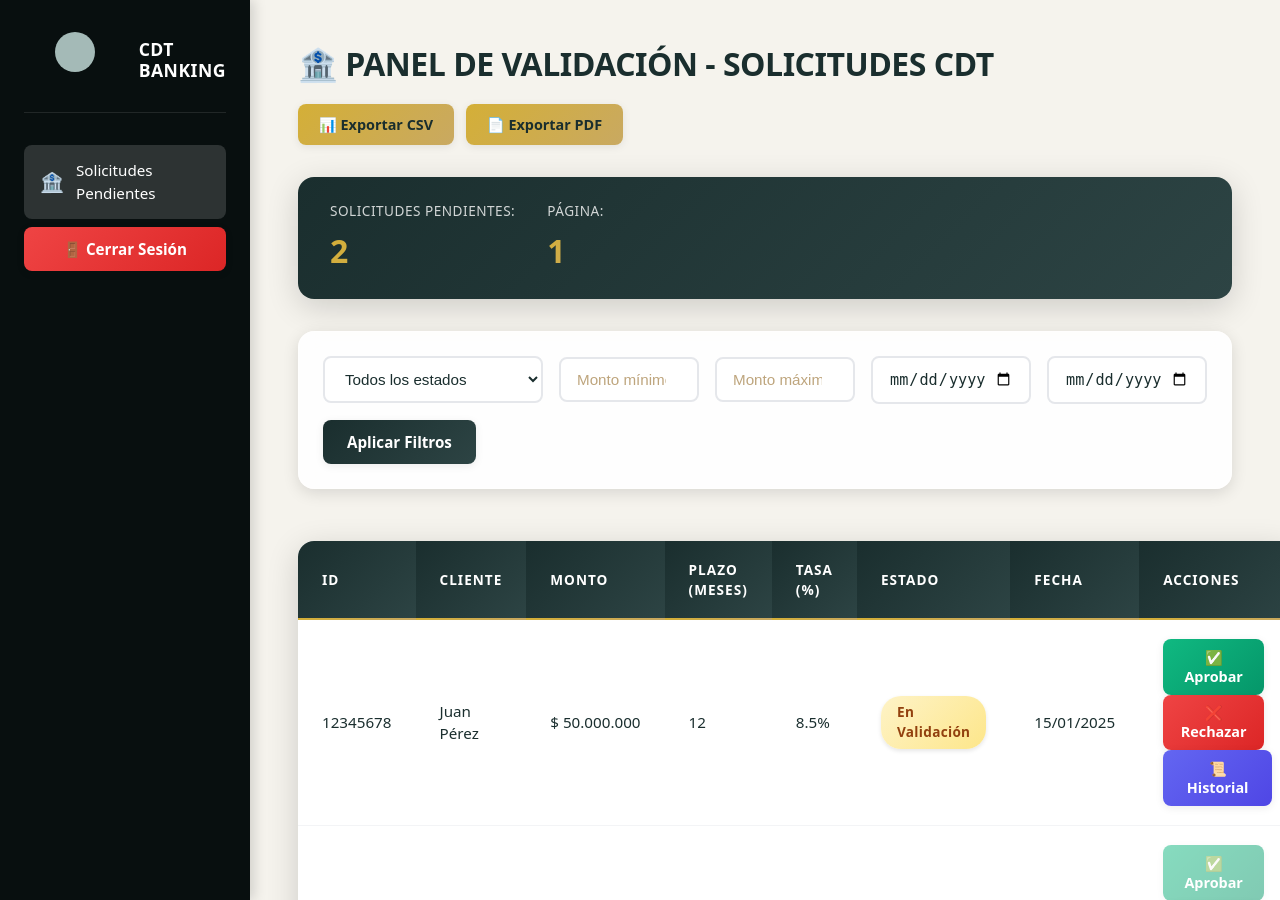
Test: AgenteDashboard Component › Rechazar solicitud › Debe abrir el modal de rechazo
Expected: the text "Juan Pérez" is shown, [416, 620, 526, 826]
Step 1. Click the button "❌ Rechazar" → (1214, 722), box [1163, 694, 1264, 750]
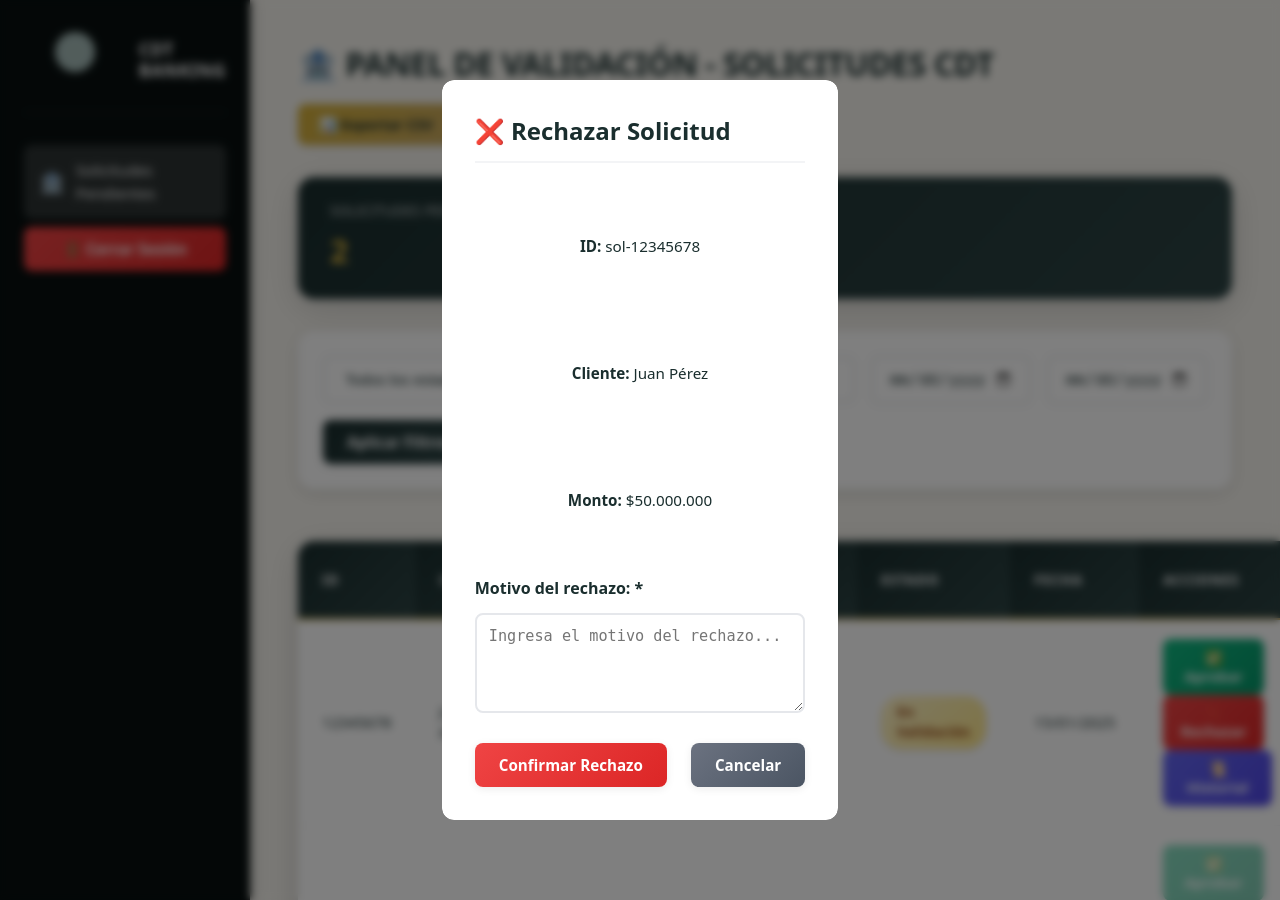
Expected: the text box with placeholder "Ingresa el motivo del rechazo..." is shown, [475, 613, 805, 713]
Expected: the button "Confirmar Rechazo" is shown, [475, 743, 667, 787]
